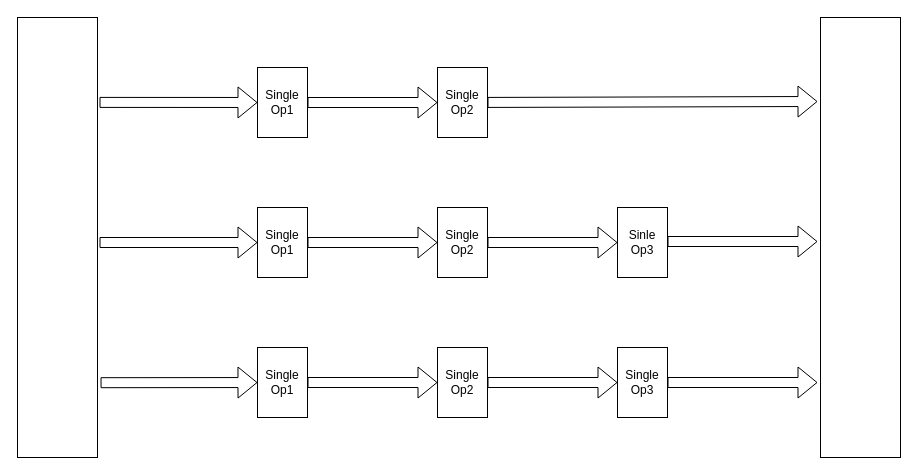
The diagram is 918 pixels wide and 475 high, and some of its shapes have lost their labels. The shapes that lost their labels are listed below. From the top down, each one's centre as x and y in pixels, then its label:
(x=57, y=237): Source
(x=860, y=237): Sink
